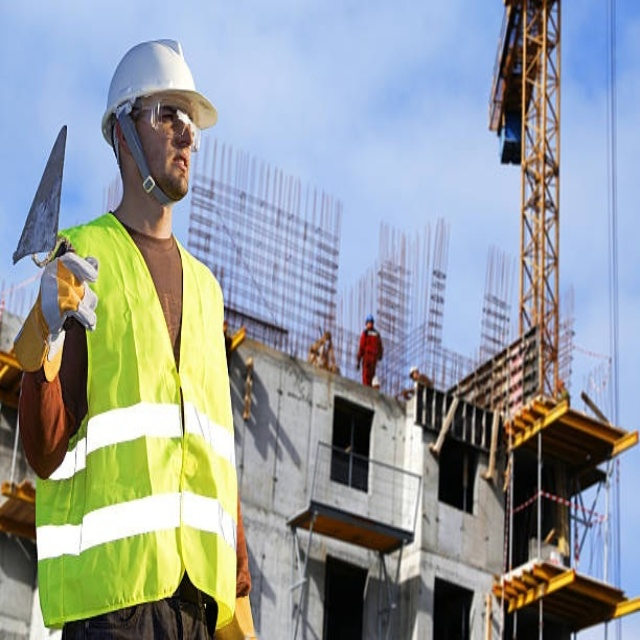Gafas: (125, 102, 205, 155)
Guantes: (10, 246, 107, 380)
Sin_mascara: (160, 147, 192, 193)
